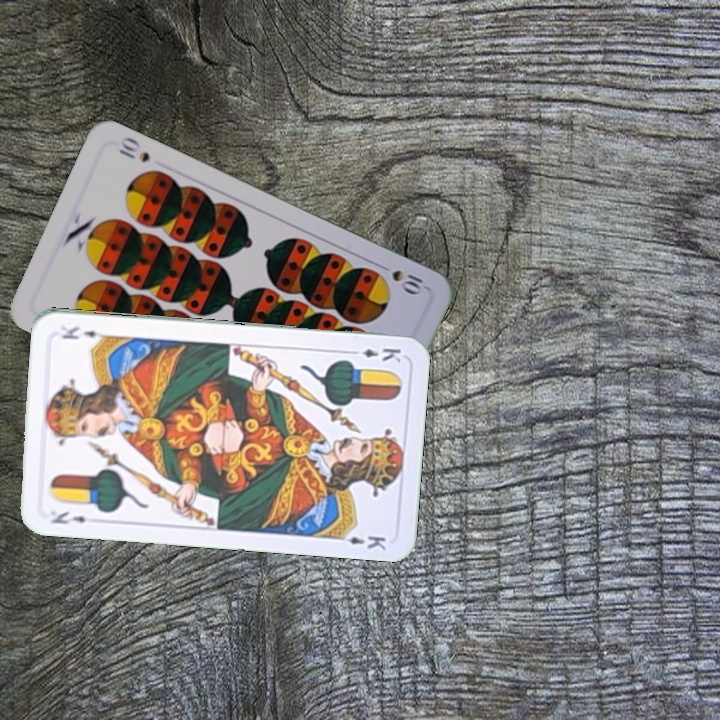EK: (345, 344, 404, 365), (47, 507, 89, 527)
S10: (373, 259, 426, 297)
